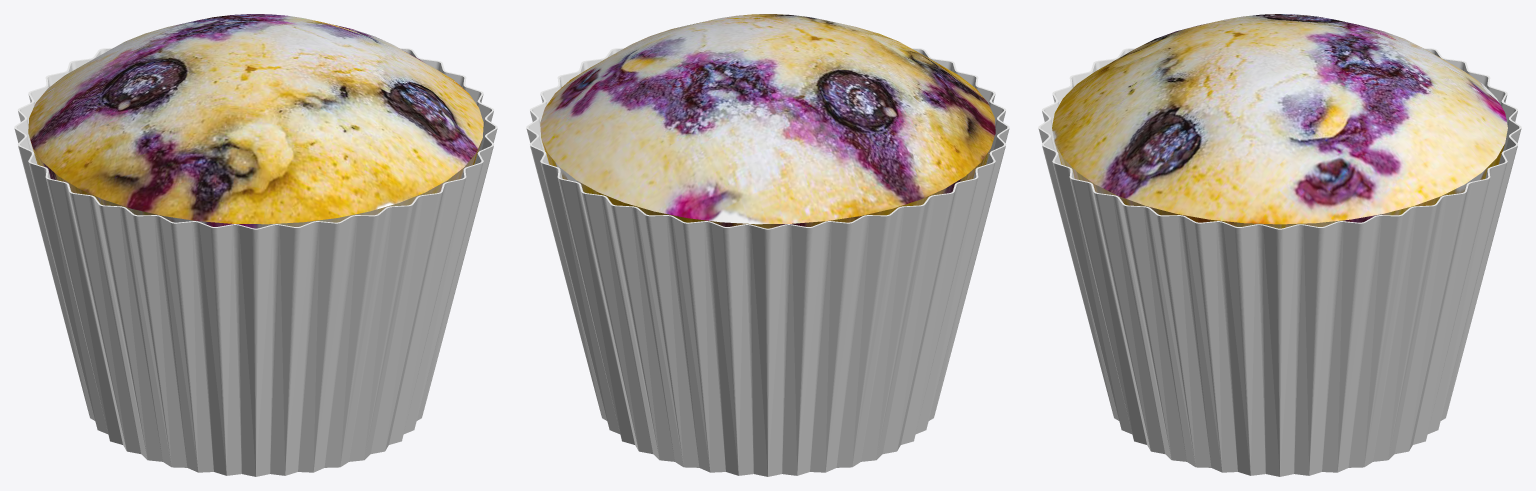
The model's file is Muffin.fbx.
3 views of the same model, side by side, from view 1: azimuth 30°, elevation 25°; view 2: azimuth 150°, elevation 25°; view 3: azimuth 270°, elevation 25° (orthographic).
Parts seen in each view (by area): view 1: Muffin; view 2: Muffin; view 3: Muffin.
Boxes of the visible parts, x1,y1,x2,y2 form: Muffin: (14,14,497,476); Muffin: (526,14,1009,476); Muffin: (1038,14,1521,476).
Size of the model in its own units: 8.97 by 7.43 by 8.97.
Materials: 1 (1 with a texture image).
